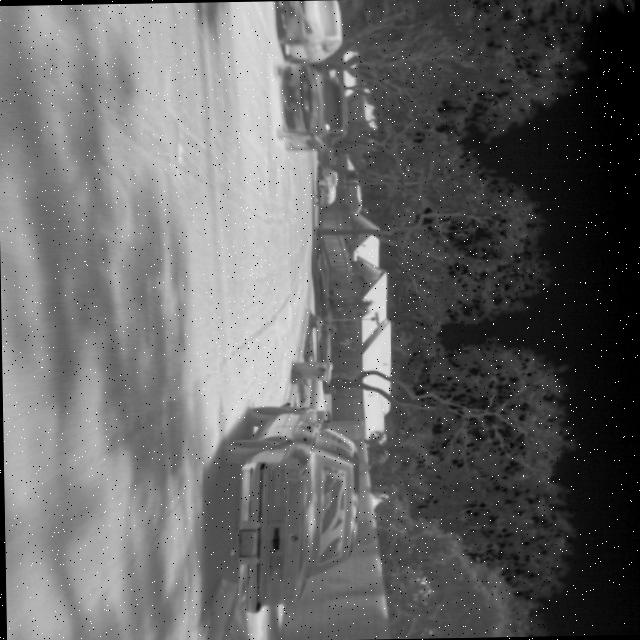Vehicle: (208, 399, 372, 615), (274, 61, 352, 152), (270, 0, 347, 63), (313, 176, 337, 207)
